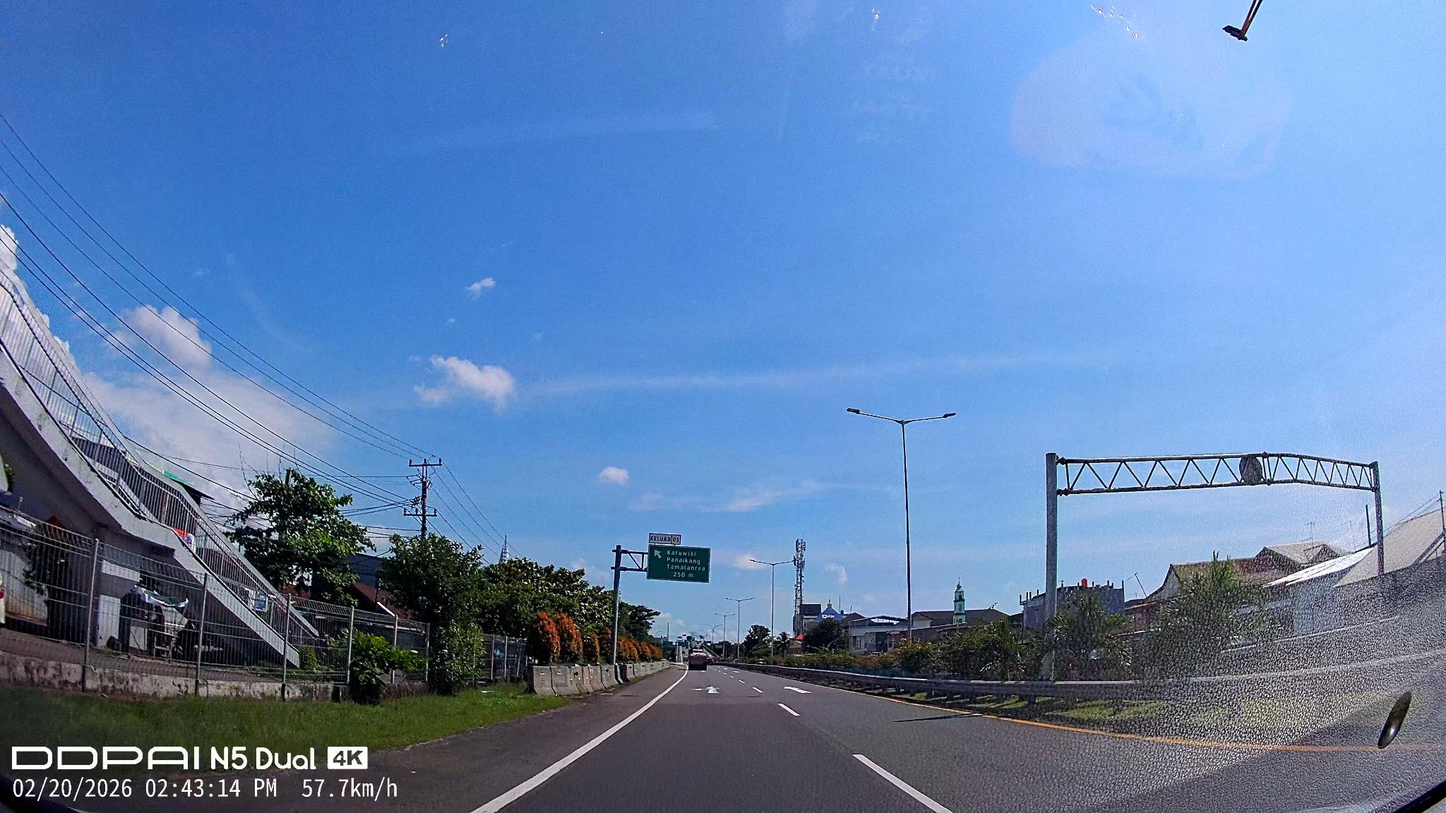rambu_teks: (645, 543, 711, 584)
